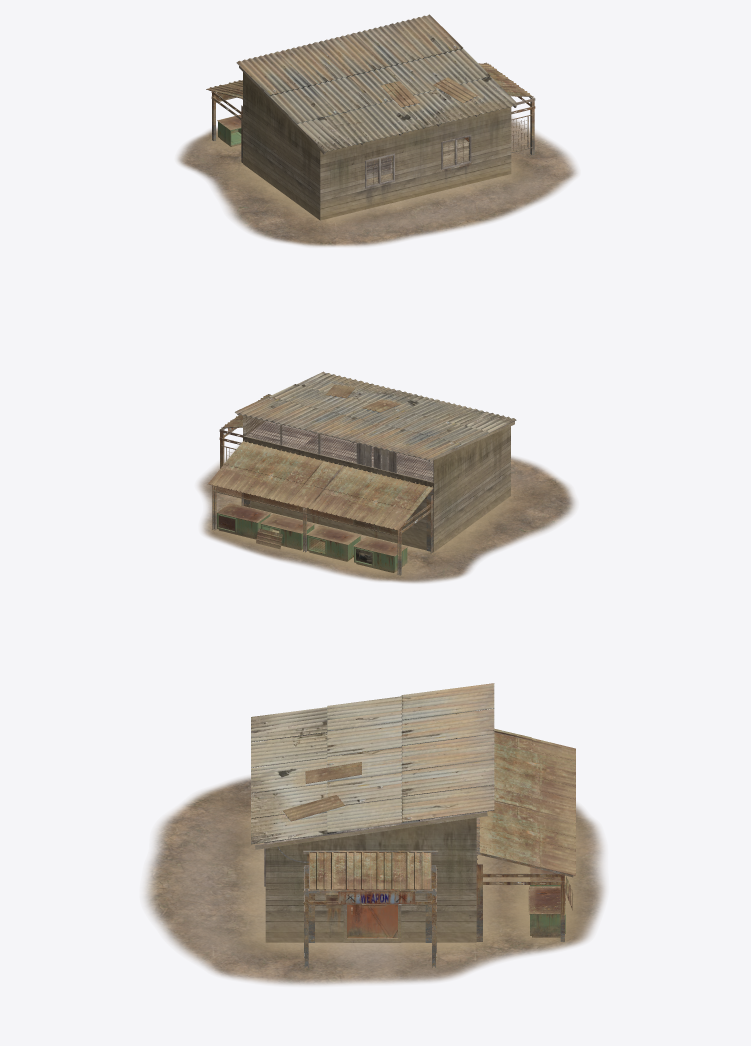
Rendered from ruined_shop.glb.
The picture shows the model from 3 angles, top to bottom: view 1: azimuth 30°, elevation 25°; view 2: azimuth 150°, elevation 25°; view 3: azimuth 270°, elevation 25°; orthographic projection. The views are drawn at different scales.
Parts seen in each view (by area): view 1: Roof, Plane, Wall, Woods, Irons, Environments; view 2: Roof, Plane, Wall, Environments, Woods, Tiles, Irons; view 3: Roof, Plane, Wall, Environments, Irons, Woods.
Part boxes in pixels (bbox=[...]): Roof: bbox=[206, 14, 531, 152]; Plane: bbox=[177, 117, 577, 246]; Wall: bbox=[243, 72, 511, 220]; Woods: bbox=[239, 66, 516, 188]; Irons: bbox=[209, 62, 535, 162]; Environments: bbox=[216, 93, 527, 184]; Roof: bbox=[208, 371, 516, 549]; Plane: bbox=[197, 447, 575, 583]; Wall: bbox=[243, 415, 510, 552]; Environments: bbox=[216, 427, 407, 572]; Woods: bbox=[237, 413, 514, 481]; Tiles: bbox=[216, 416, 432, 553]; Irons: bbox=[209, 394, 433, 575]; Roof: bbox=[251, 683, 575, 910]; Plane: bbox=[144, 776, 605, 985]; Wall: bbox=[265, 711, 476, 942]; Environments: bbox=[277, 846, 565, 938]; Irons: bbox=[303, 736, 573, 967]; Woods: bbox=[254, 711, 487, 942].
Bounding box in the file's own units: 48 × 9.87 × 48.
Materials: 8 (8 with a texture image).
